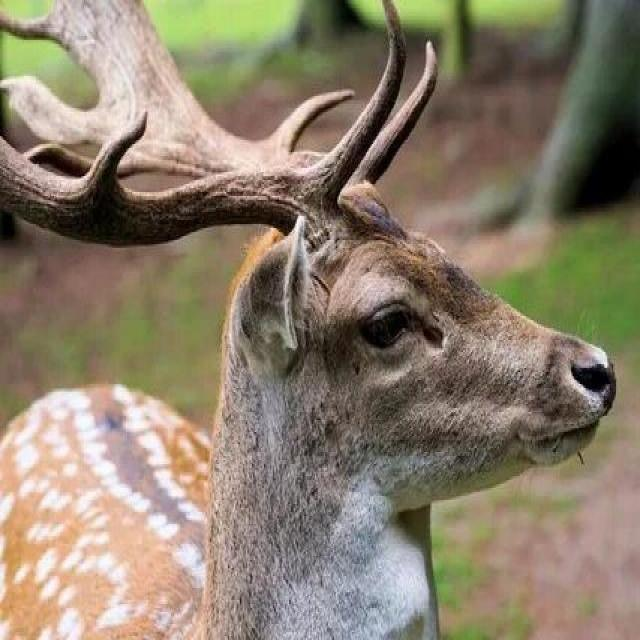deer: (74, 6, 640, 621)
